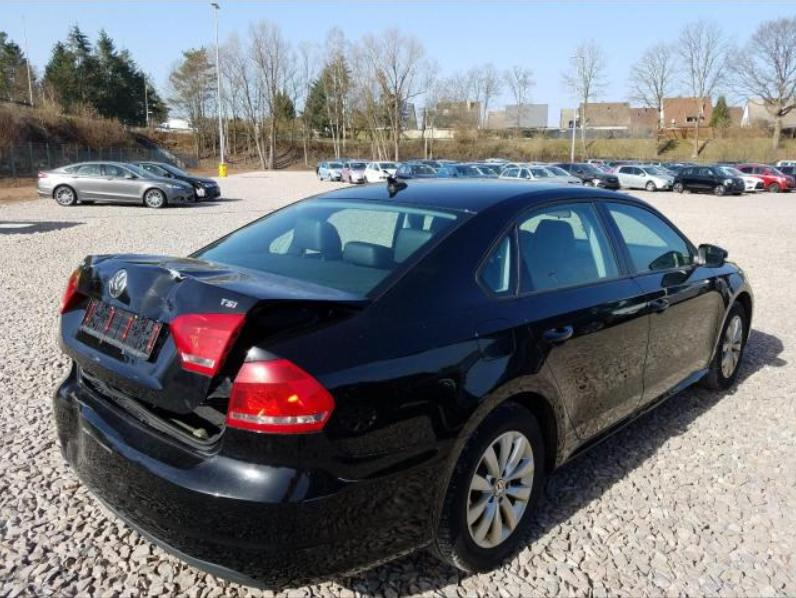Back-bumper: (51, 360, 474, 591)
Back-door: (513, 197, 650, 440)
Back-wheel: (425, 402, 545, 577)
Back-window: (518, 203, 619, 292), (481, 234, 512, 296)
Back-windshield: (189, 198, 475, 298)
Fender: (708, 262, 753, 370)
Front-door: (594, 198, 719, 413)
Front-wheel: (700, 300, 749, 390)
Front-window: (603, 202, 689, 276)
License-plate: (79, 298, 161, 358)
Mirror: (687, 243, 727, 268)
Quarter-panel: (242, 286, 578, 455)
Rocker-panel: (554, 369, 708, 473)
Roof: (304, 179, 643, 217)
Tail-light: (224, 360, 335, 436), (168, 313, 244, 378), (58, 266, 84, 312)
Trunk: (58, 253, 374, 415)
